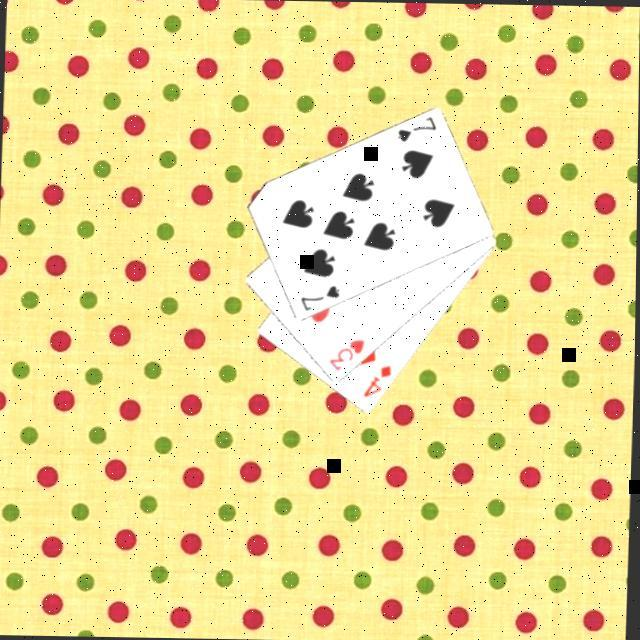3H: (328, 336, 370, 375)
4D: (362, 362, 396, 402)
7S: (394, 113, 442, 146), (299, 282, 344, 316)
